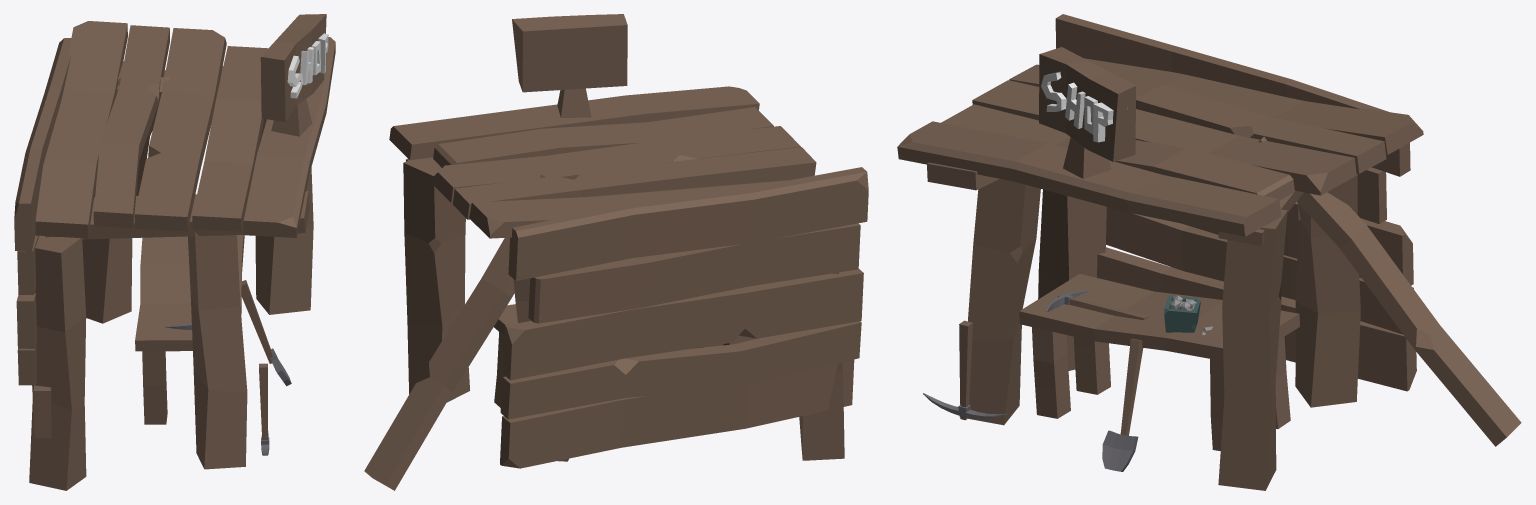
File: Environment2.fbx
3 renders of one model, left to right at view 1: azimuth 30°, elevation 25°; view 2: azimuth 150°, elevation 25°; view 3: azimuth 270°, elevation 25°, orthographic. The views are drawn at different scales.
Visible parts, largest first — view 1: Shop, Cube.011, Cube.009; view 2: Shop; view 3: Shop, Cube.011, Cube.009, Kova, Cube.010.
Part boxes in pixels (<box>): Shop: <box>14,14,335,490</box>; Cube.011: <box>241,280,291,386</box>; Cube.009: <box>259,363,269,455</box>; Shop: <box>364,14,868,490</box>; Shop: <box>897,14,1521,490</box>; Cube.011: <box>1102,338,1143,471</box>; Cube.009: <box>923,320,1006,420</box>; Kova: <box>1164,295,1200,332</box>; Cube.010: <box>1046,290,1149,320</box>.
Size of the model in its own units: 4.61 by 4.17 by 5.56.
